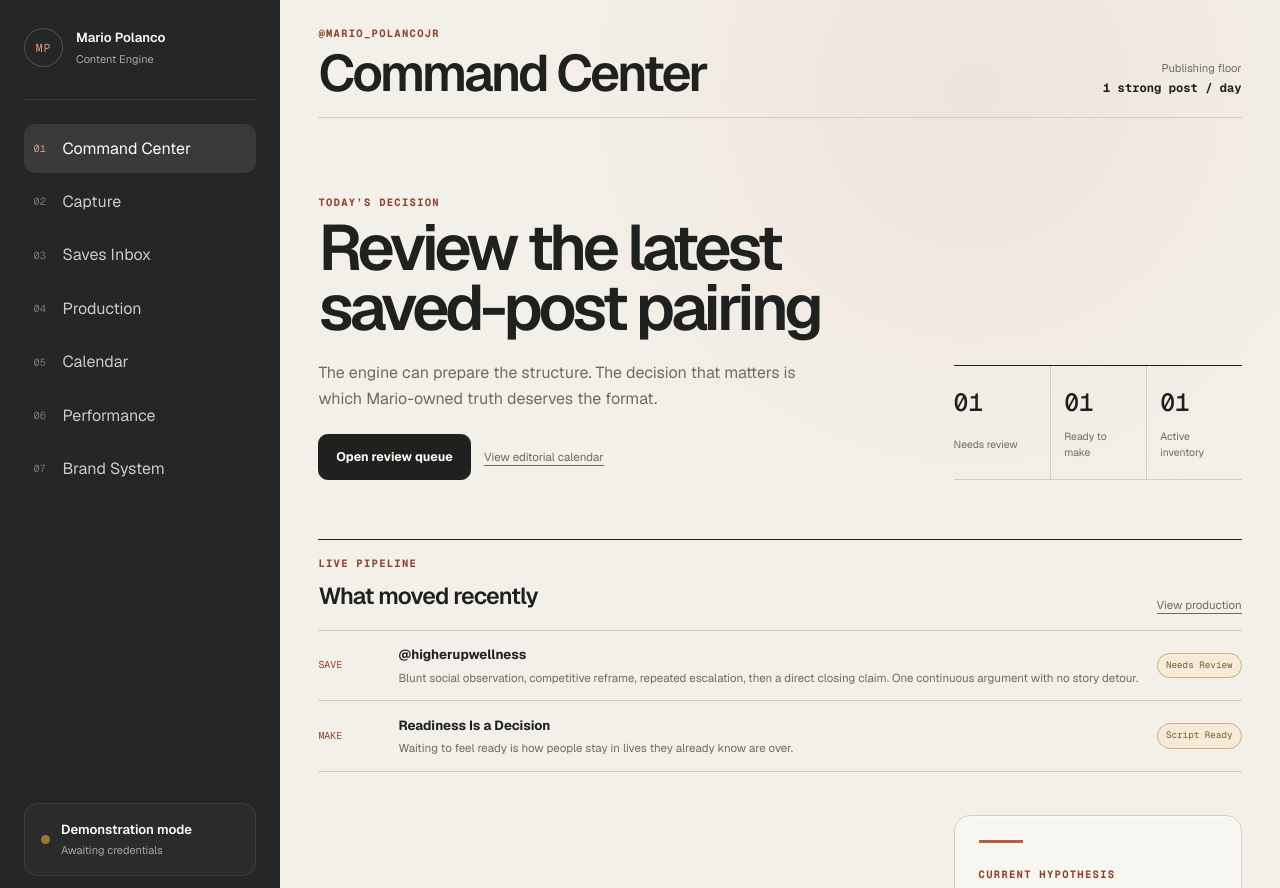
Test: Production package instructions › offers and generates an optional full script when Mario is stuck
The image size is (1280, 888).
Step 1. Click the button "04 Production" → coordinates (140, 309), box x1=24 y1=284 x2=256 y2=333
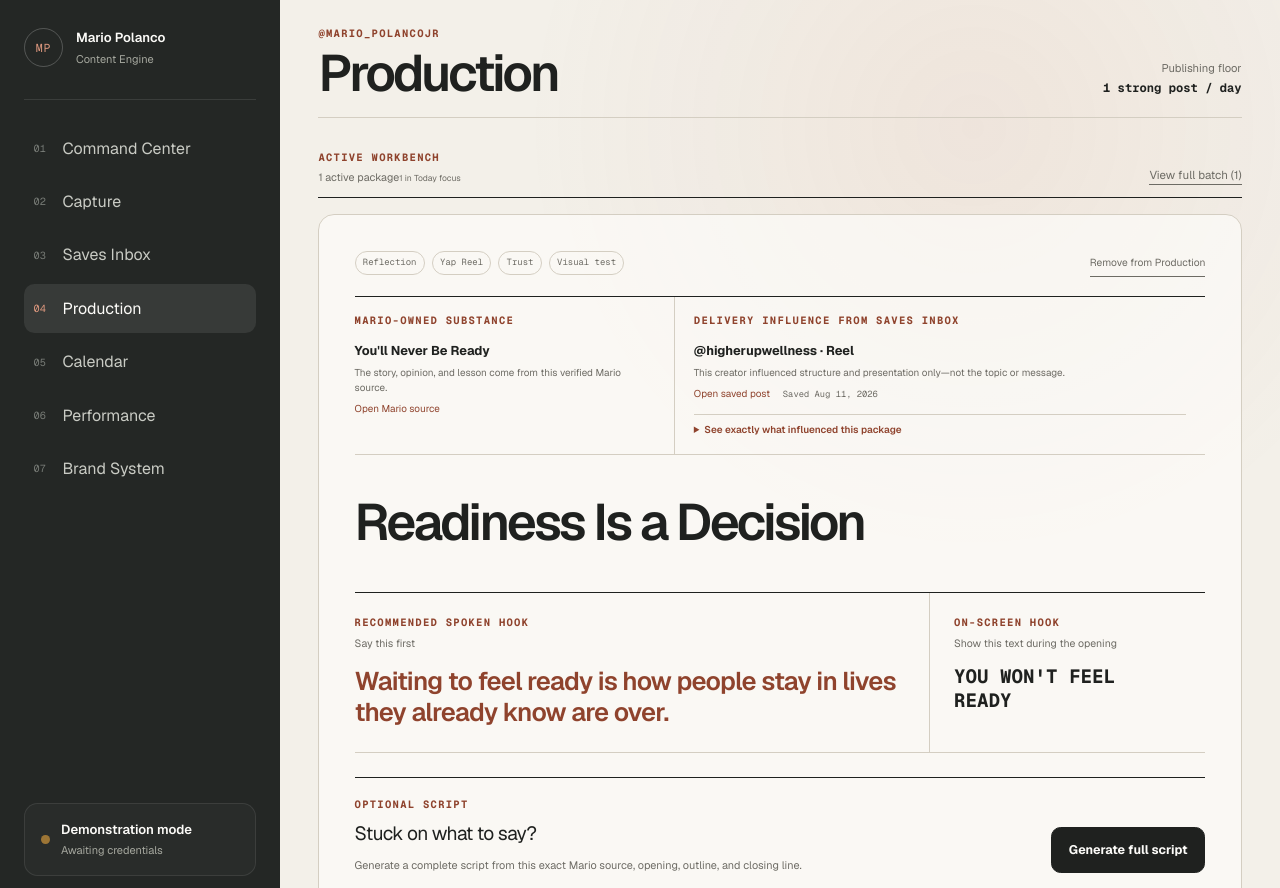
Now the heading "Stuck on what to say?" is shown, box x1=355 y1=821 x2=536 y2=846
Step 2. Click the button "Generate full script" → coordinates (1128, 850), box x1=1051 y1=827 x2=1205 y2=873
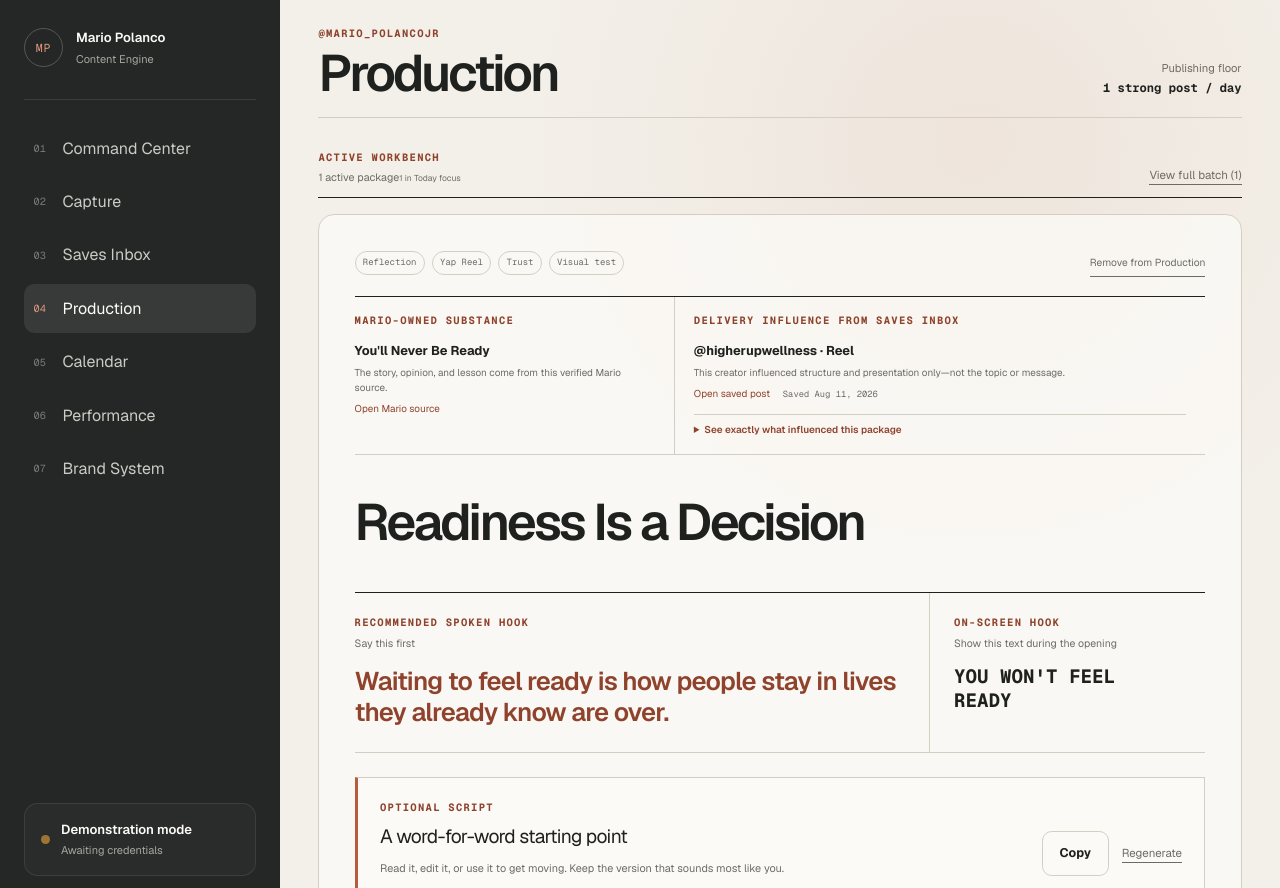
Now the heading "A word-for-word starting point" is shown, box x1=380 y1=824 x2=627 y2=849
Now the button "Copy" is shown, box x1=1042 y1=831 x2=1109 y2=876
Now the button "Regenerate" is shown, box x1=1122 y1=844 x2=1182 y2=863
